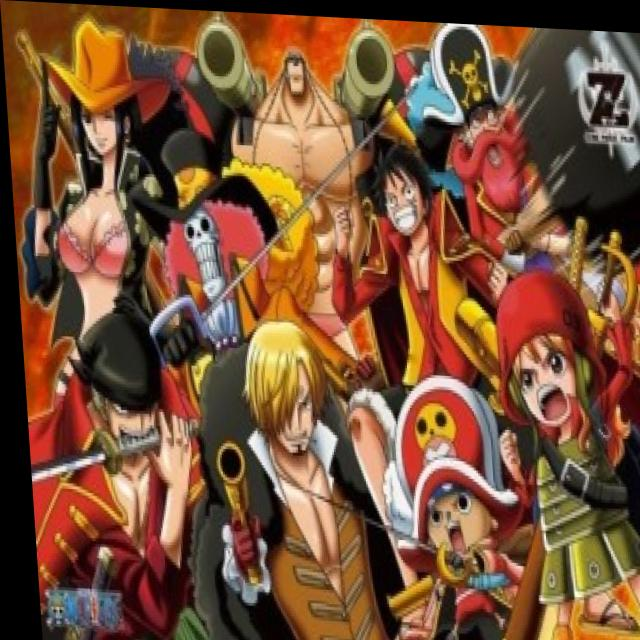Blook: (146, 123, 268, 320)
Chyopa: (385, 359, 513, 637)
Franky: (263, 35, 328, 118)
Luffy: (361, 142, 444, 251)
NicoRobin: (58, 25, 145, 189)
Sangdi: (229, 319, 331, 468)
Zoro: (58, 304, 177, 483)
